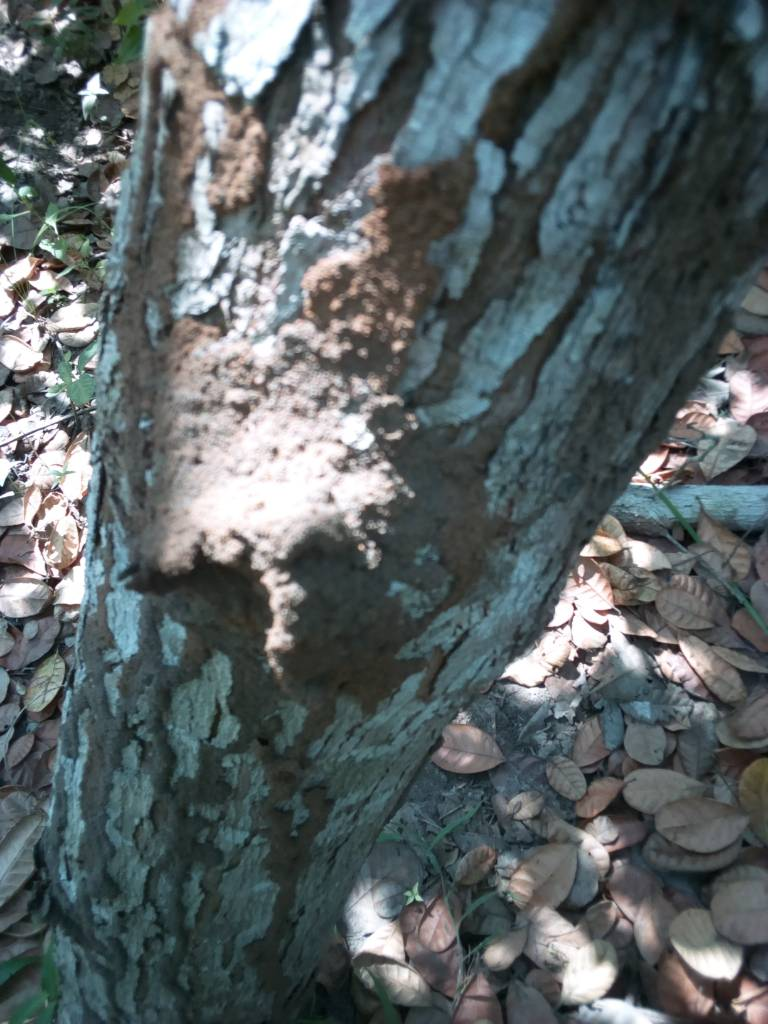Termites: (113, 236, 505, 702)
